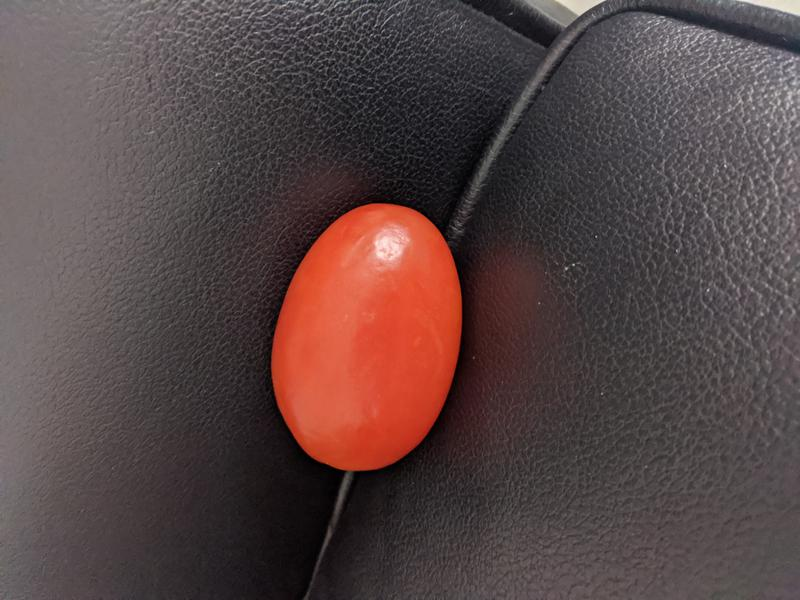tomato: (268, 203, 464, 471)
